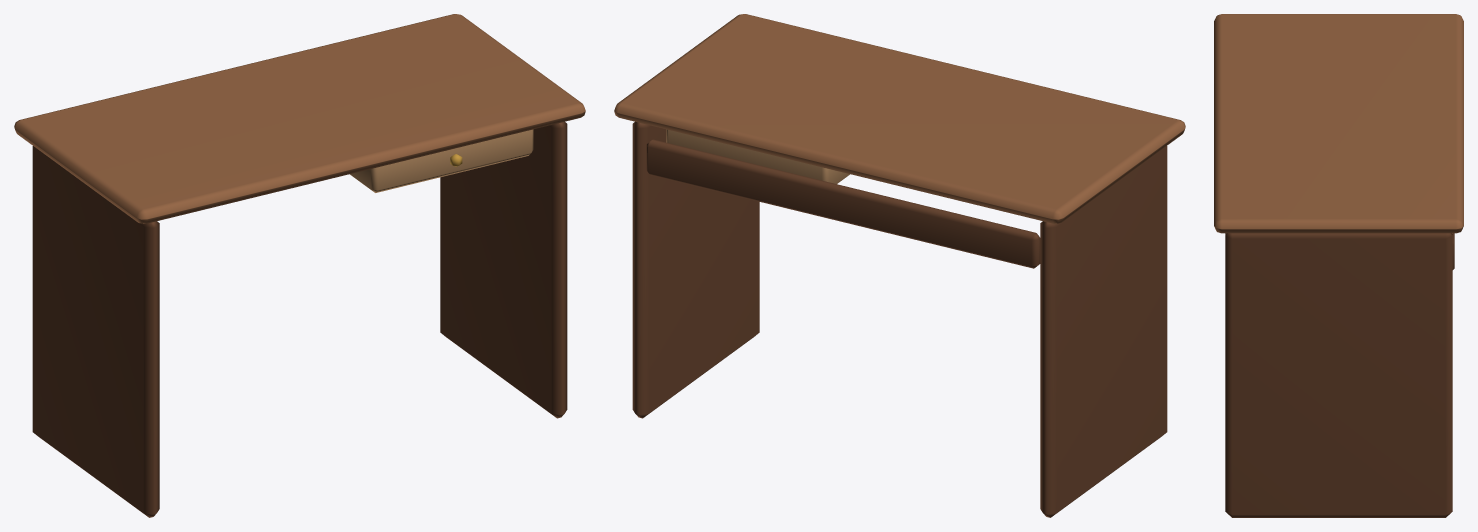
File: music_desk.glb
3 views of the same model, side by side, from view 1: azimuth 30°, elevation 25°; view 2: azimuth 150°, elevation 25°; view 3: azimuth 270°, elevation 25° (orthographic). The views are drawn at different scales.
Parts seen in each view (by area): view 1: music_desk; view 2: music_desk; view 3: music_desk.
Part boxes in pixels (left/top/right/bottom): music_desk: left=14, top=14, right=585, bottom=517; music_desk: left=614, top=14, right=1185, bottom=517; music_desk: left=1214, top=14, right=1463, bottom=517.
Bounding box in the file's own units: 1.1 × 0.74 × 0.55.
